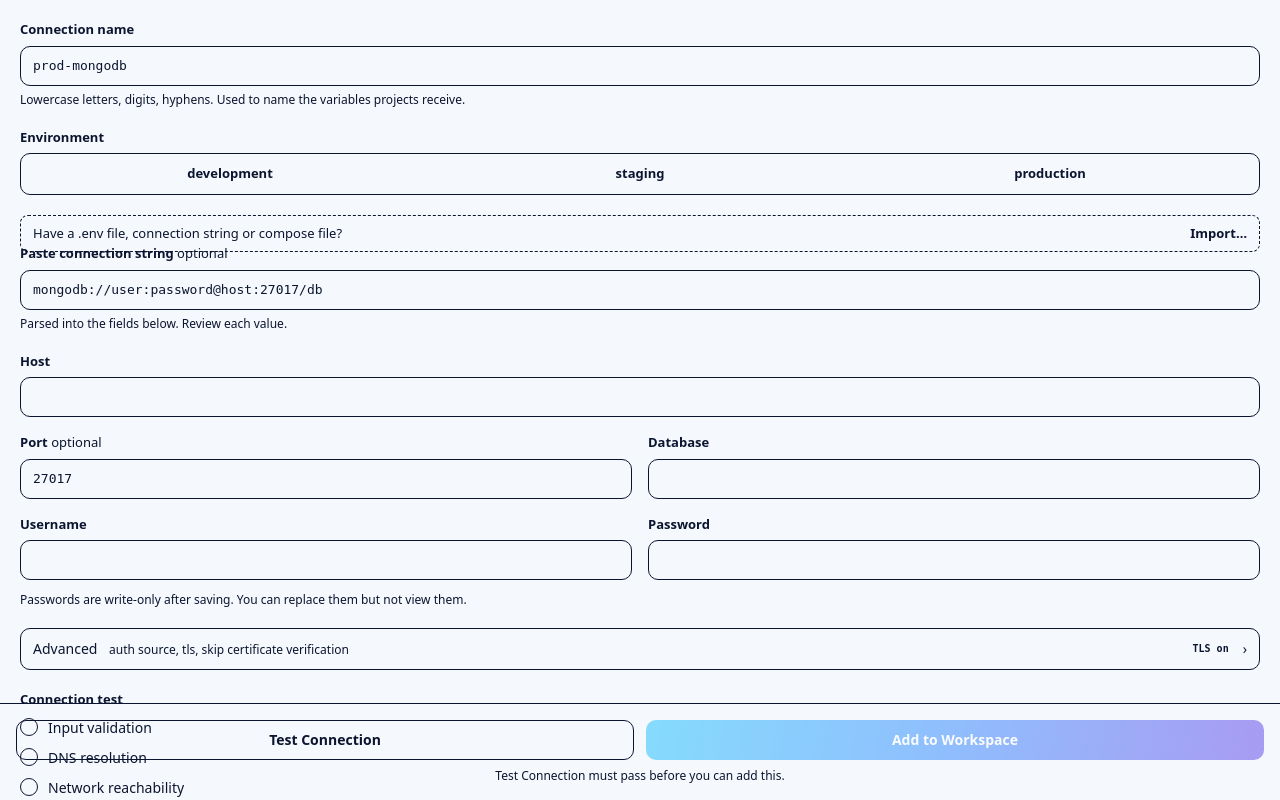
ConnectTab form › pasting a connection string fills the fields and masks the password
Click the field labelled "Paste connection string optional" at (640, 290), box [20,270,1260,310]
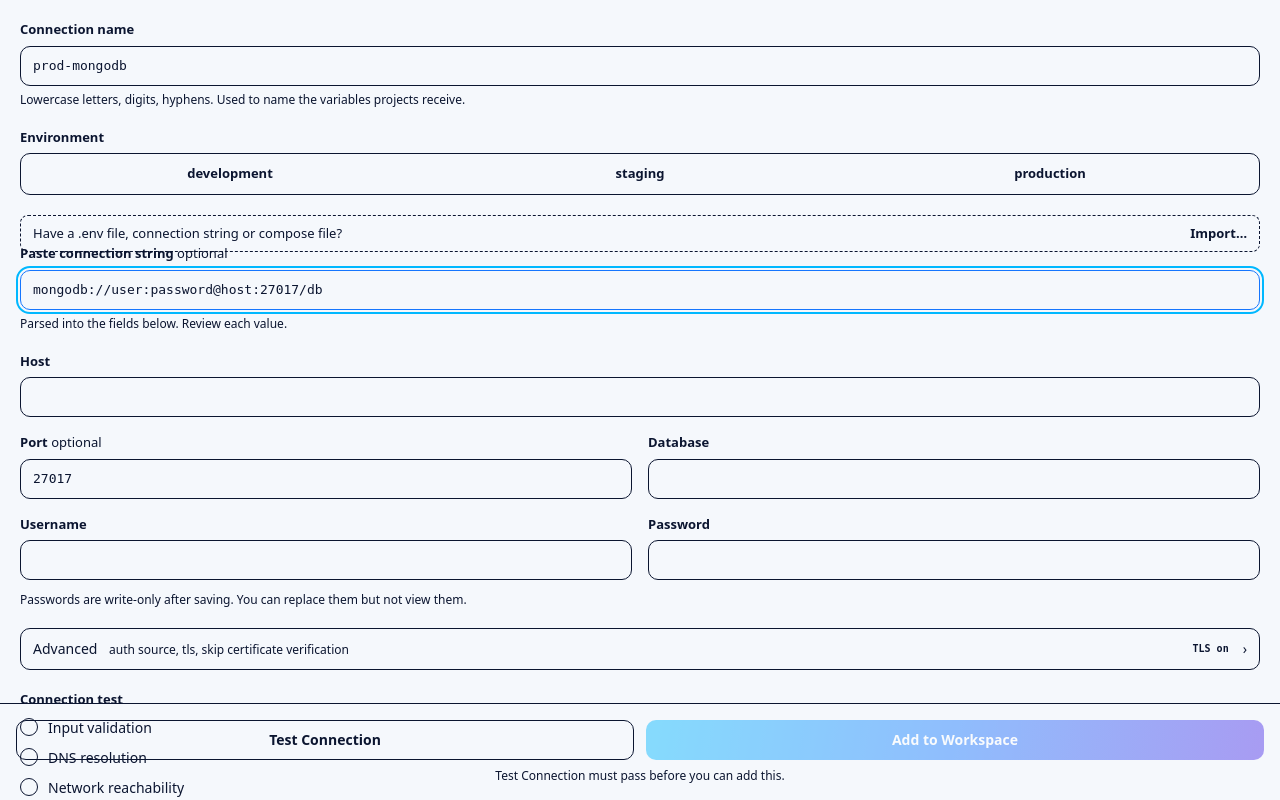
Type keys "mongodb+srv://orders_app:p%40ss@orders.k3x9p.mongodb.net/orders"
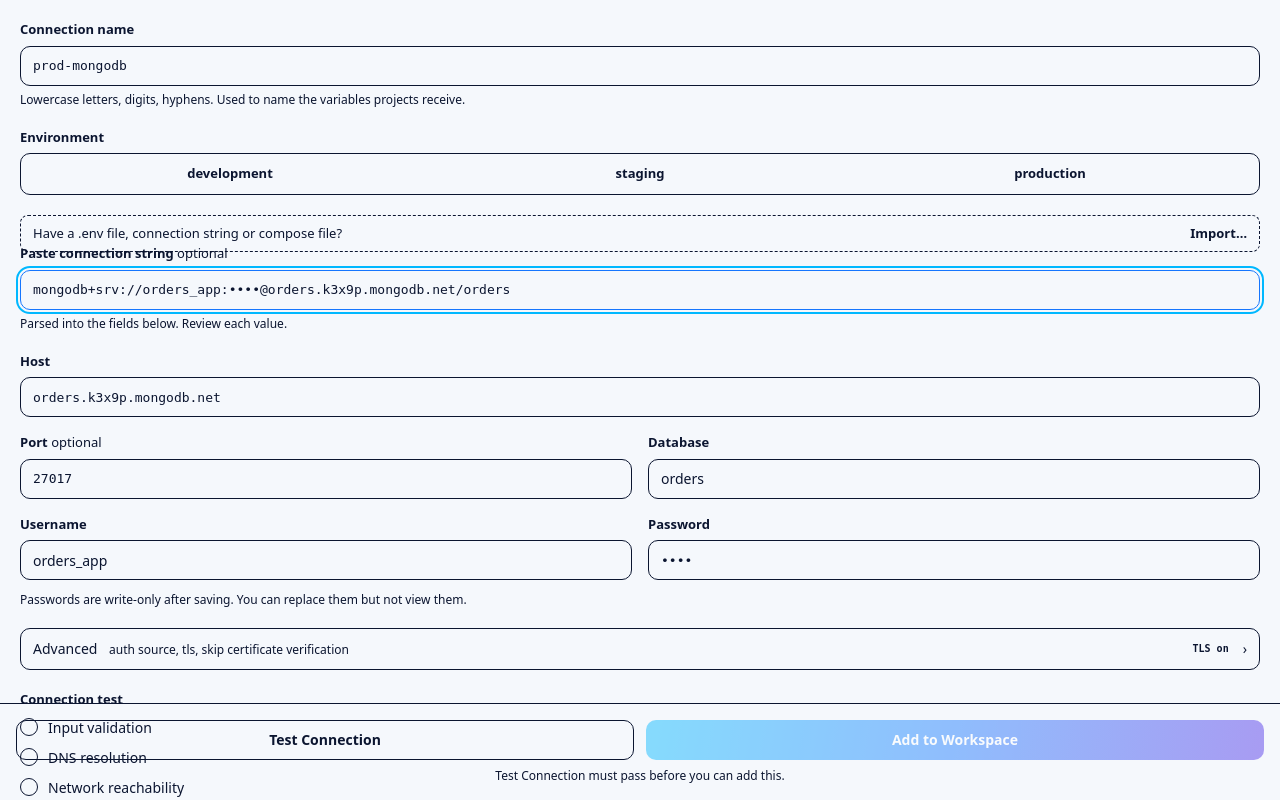
Check: the field labelled "Host" holds "orders.k3x9p.mongodb.net", box [20,377,1260,417]
Check: the field labelled "Username" holds "orders_app", box [20,540,632,580]
Check: the password field labelled "Password" holds "p@ss", box [648,540,1260,580]
